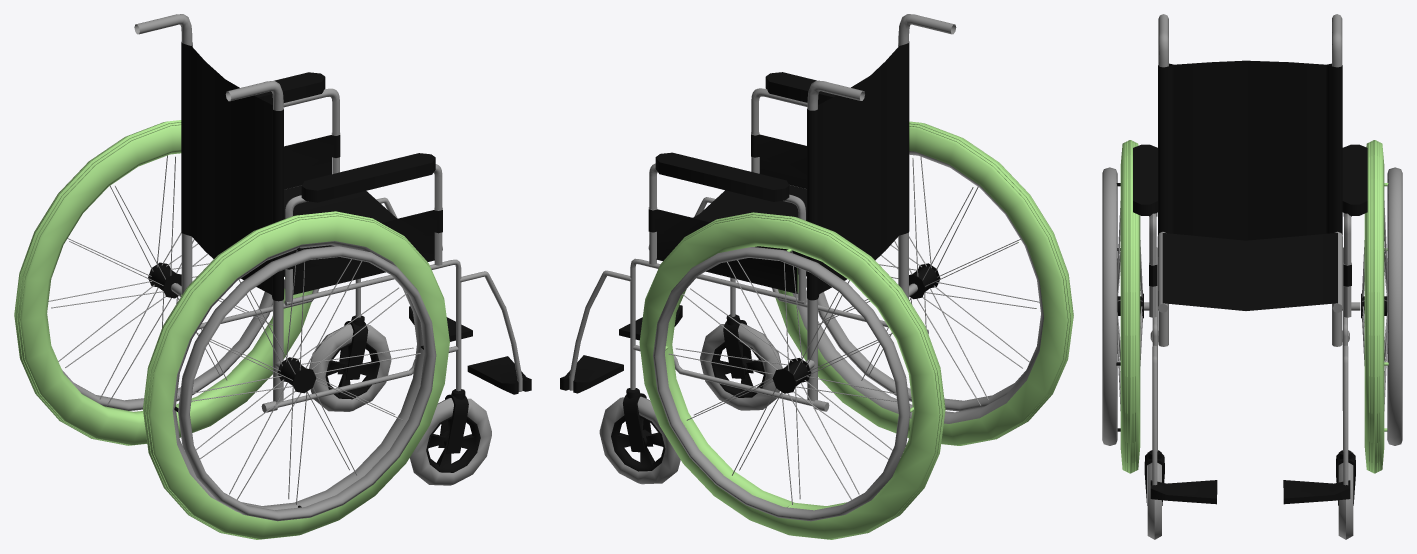
Rendered from Wheelchair.FBX.
3 views of the same model, side by side, from view 1: azimuth 30°, elevation 25°; view 2: azimuth 150°, elevation 25°; view 3: azimuth 270°, elevation 25° (orthographic). The views are drawn at different scales.
Visible parts, largest first — view 1: Torus002; view 2: Torus002; view 3: Torus002.
Part boxes in pixels (x1,y1,x2,y2): Torus002: [14, 14, 531, 539]; Torus002: [560, 14, 1073, 539]; Torus002: [1102, 14, 1402, 539].
Size of the model in its own units: 1.08 by 0.719 by 1.11.
